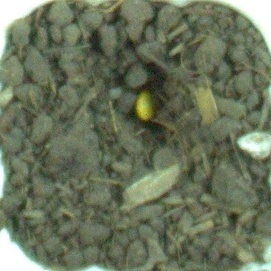chilli seed: (133, 88, 160, 123)
